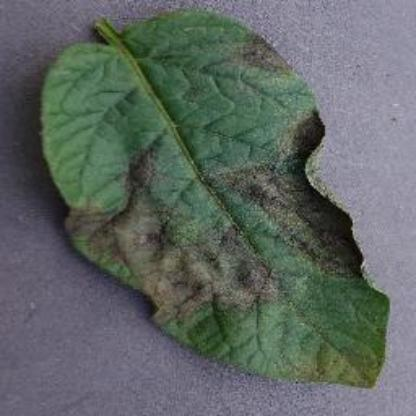Late-Blight: (19, 13, 402, 389)
